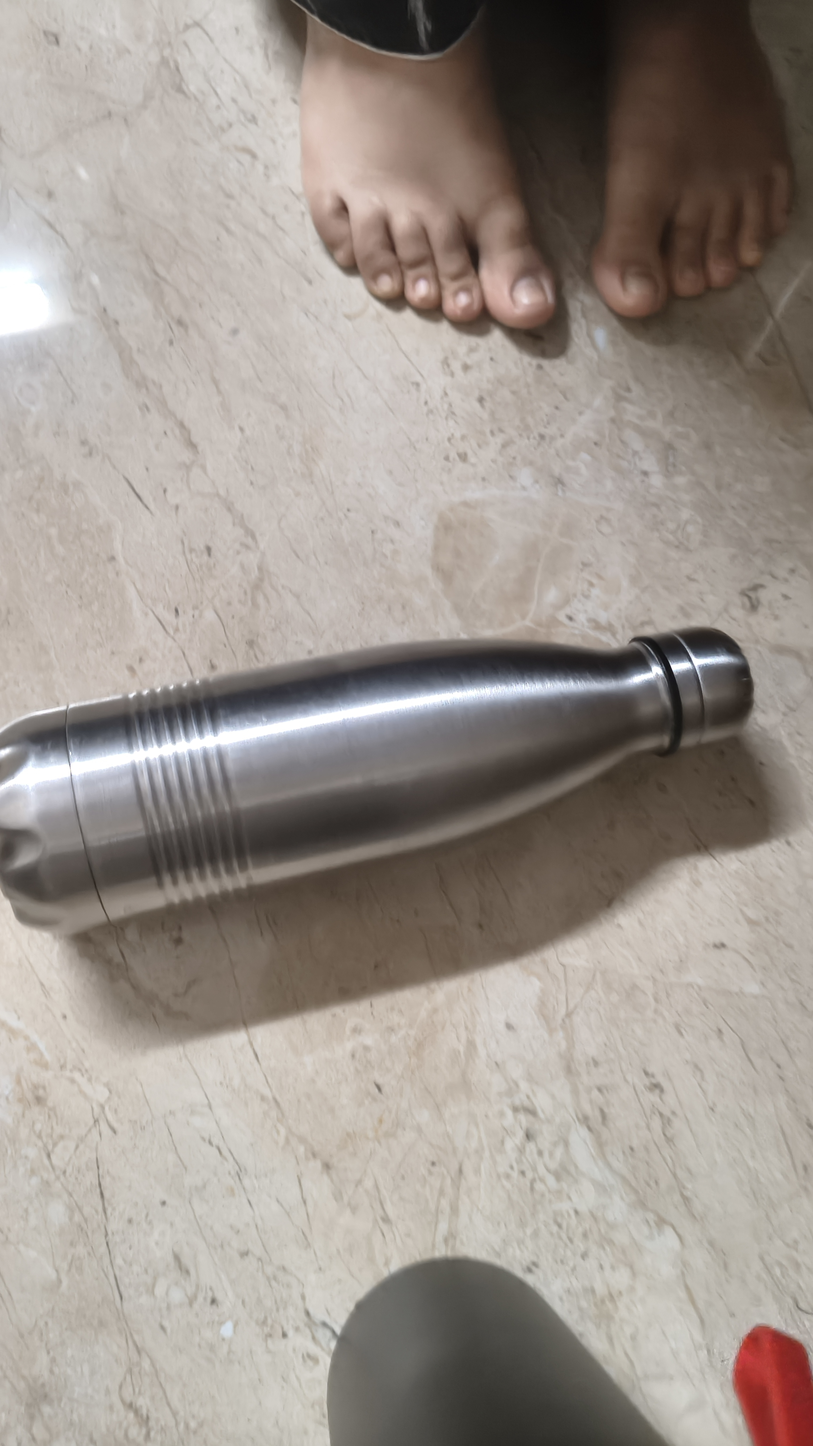bottles: (0, 629, 752, 933)
